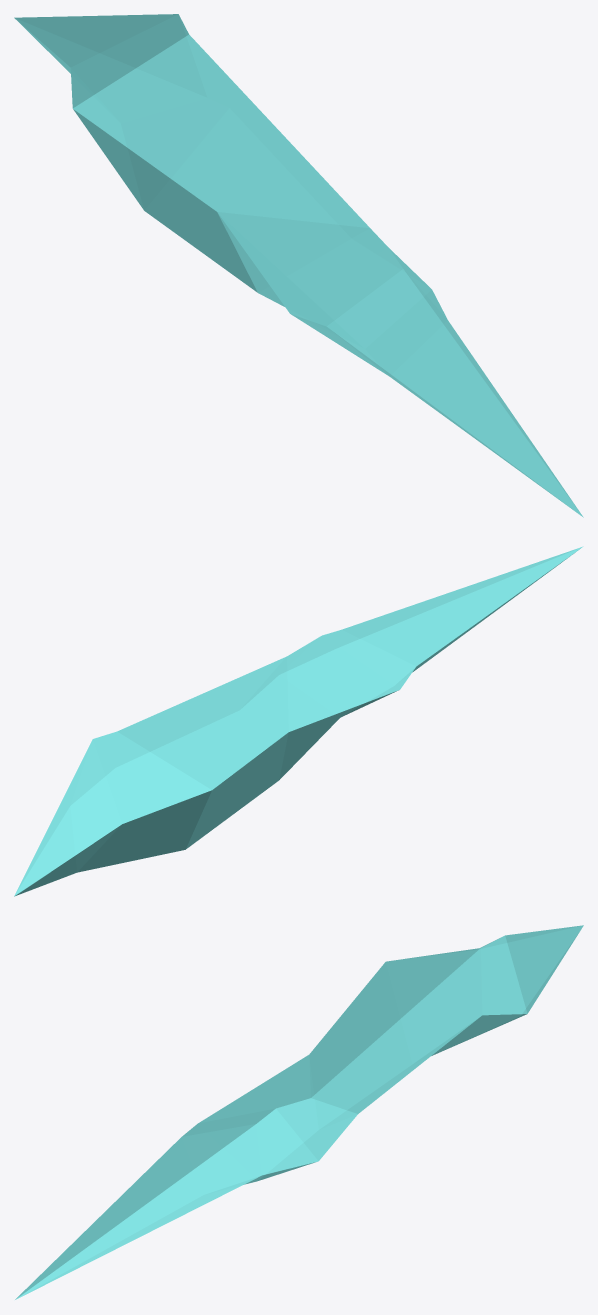
Rendered from Icicle_B.fbx.
3 views of the same model, one above another, from view 1: azimuth 30°, elevation 25°; view 2: azimuth 150°, elevation 25°; view 3: azimuth 330°, elevation 25° (orthographic). The views are drawn at different scales.
Visible parts, largest first — view 1: Icicle_B; view 2: Icicle_B; view 3: Icicle_B.
Boxes of the visible parts, x1,y1,x2,y2 form: Icicle_B: (14, 14, 583, 517); Icicle_B: (14, 546, 583, 896); Icicle_B: (15, 925, 583, 1299).
Bounding box in the file's own units: 0.3628 × 2.45 × 0.3156.
